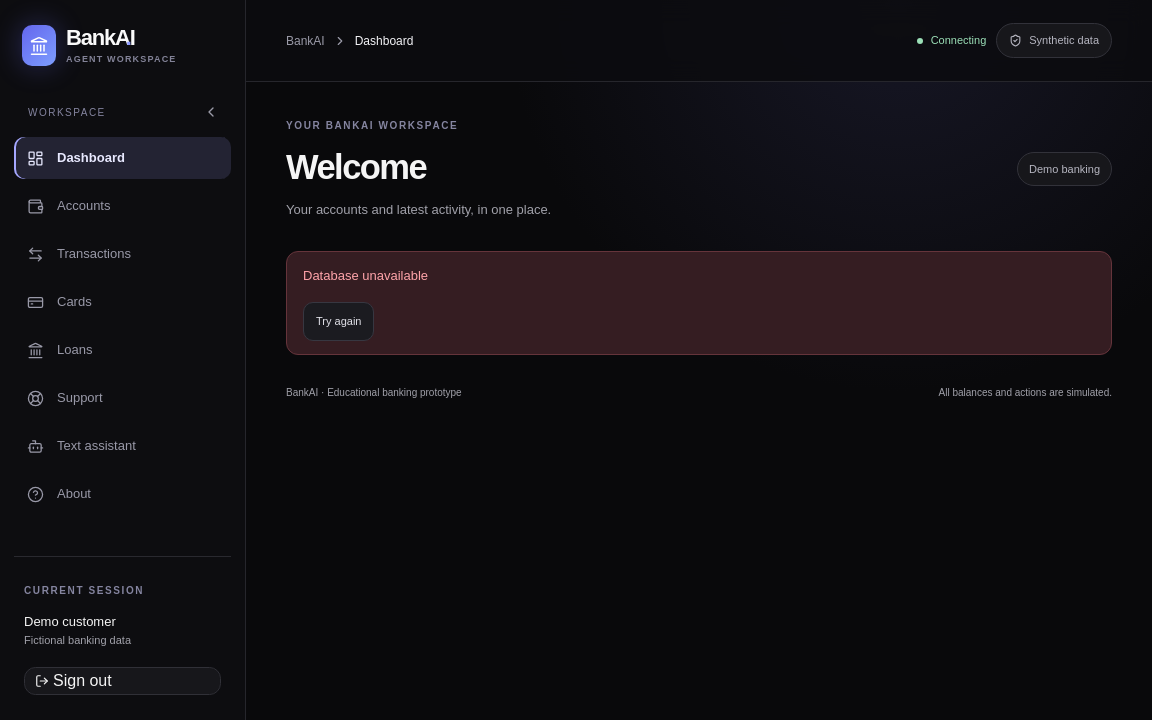
it: shows a resource error and retries without displaying invented balances
Expected: the message shows "Database unavailable", [303, 268, 428, 283]
Expected: the text "₹98,765.43" is not shown
Click the button "Try again" at x=339, y=322, box [303, 302, 374, 341]
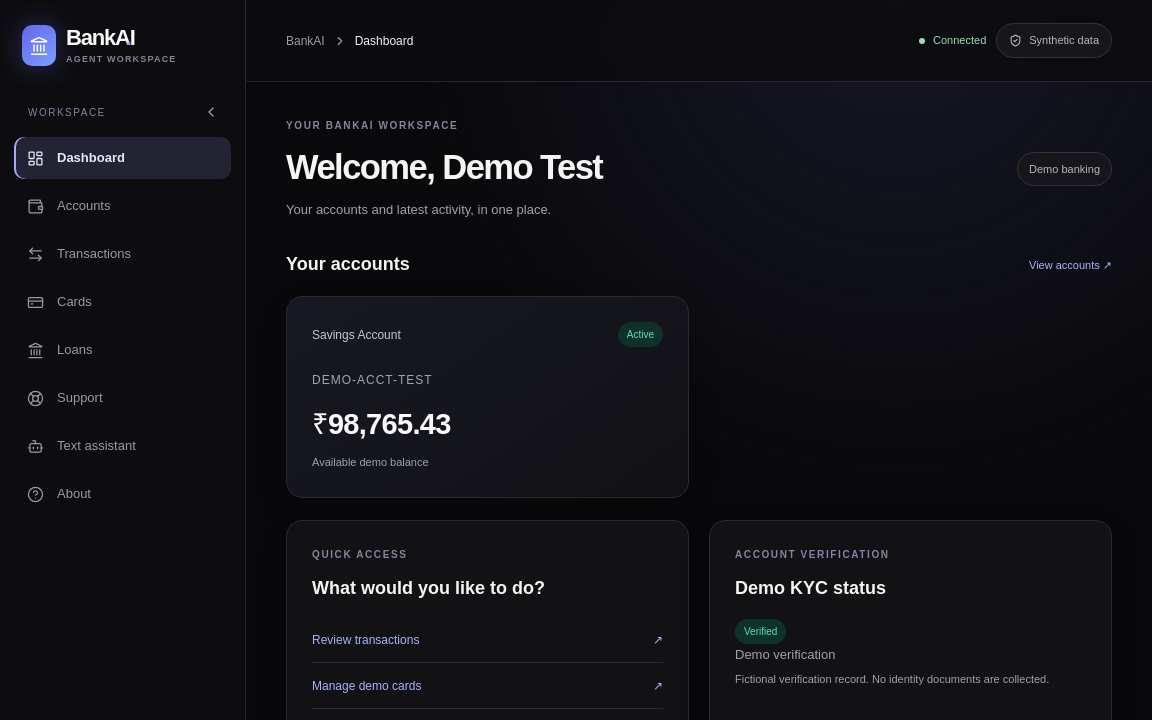
Now the text "₹98,765.43" is shown, box [312, 408, 451, 440]
